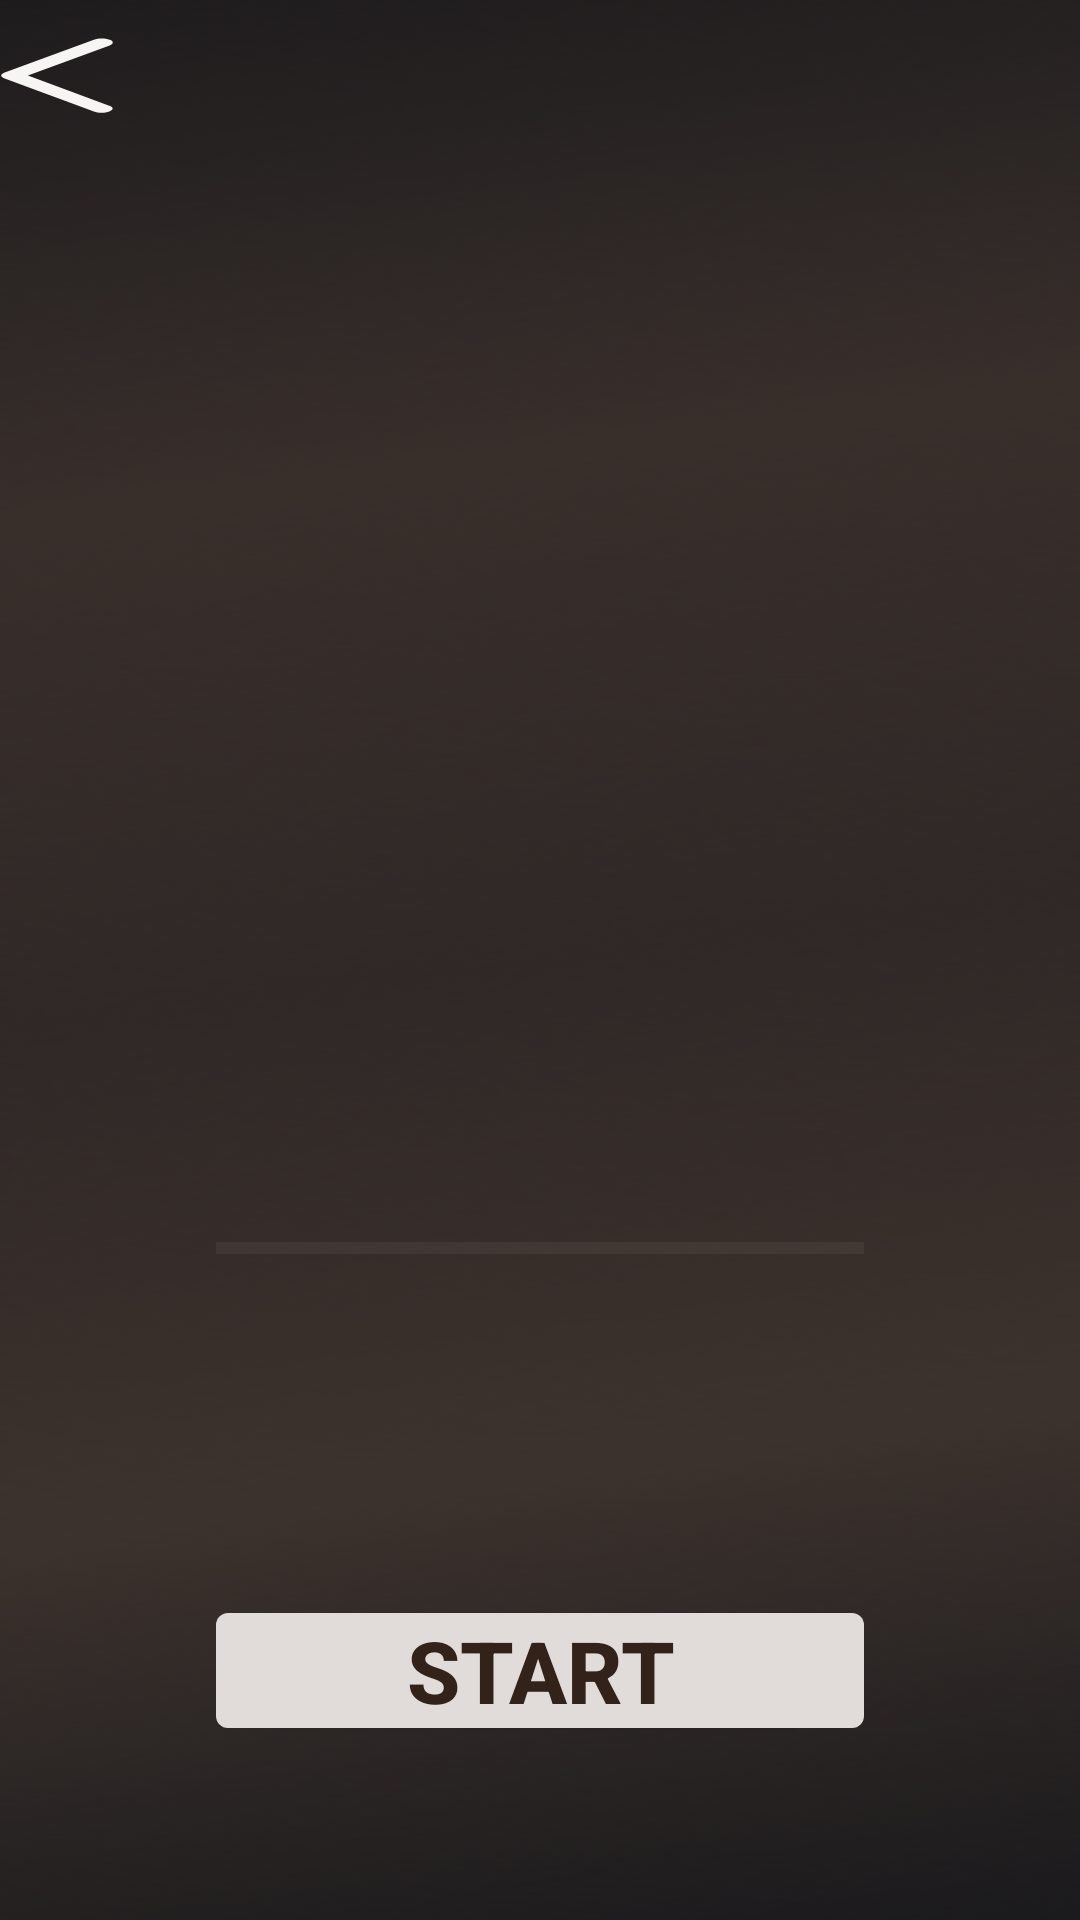

Point at icon controls on the screen. Image size 1080x1920, points as point (x, y).
arr: point (57, 75)
